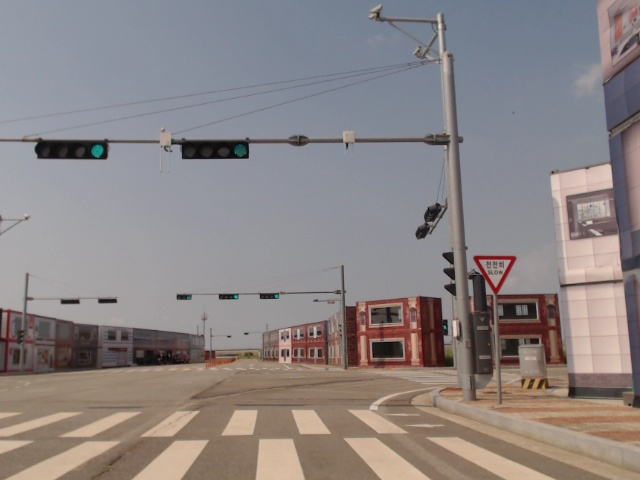straight_green_4: (34, 138, 109, 159), (180, 141, 251, 159), (219, 294, 240, 300), (258, 293, 282, 298)
